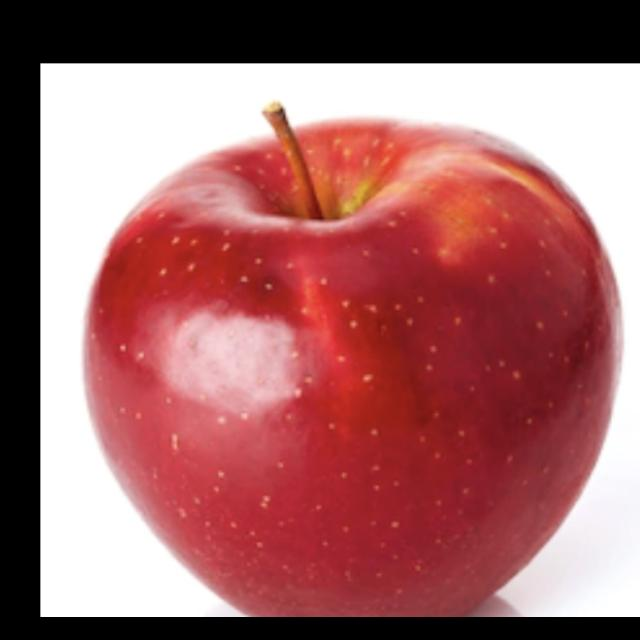Apel Segar: (90, 115, 618, 618)
